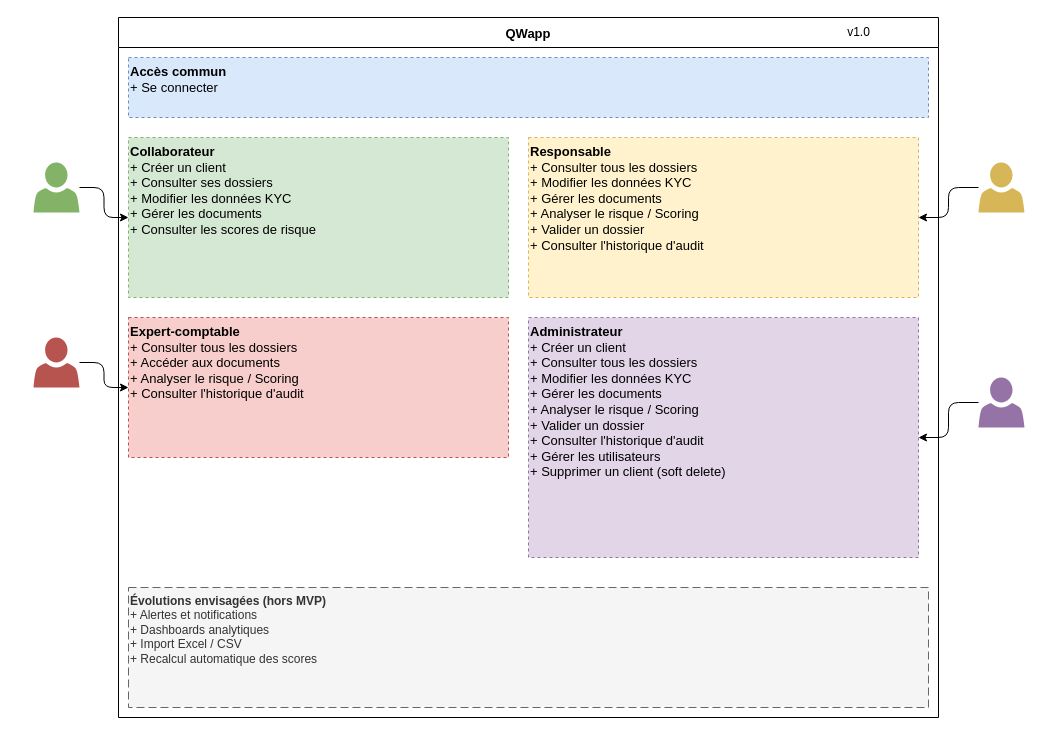
The diagram is 1061 pixels wide and 735 high, and some of its shapes have lost their labels. Each missing label, with the centre of its shape:
Administrateur: [1001,402]
Collaborateur: [56,187]
Expert- comptable: [56,362]
Responsable: [1001,187]
